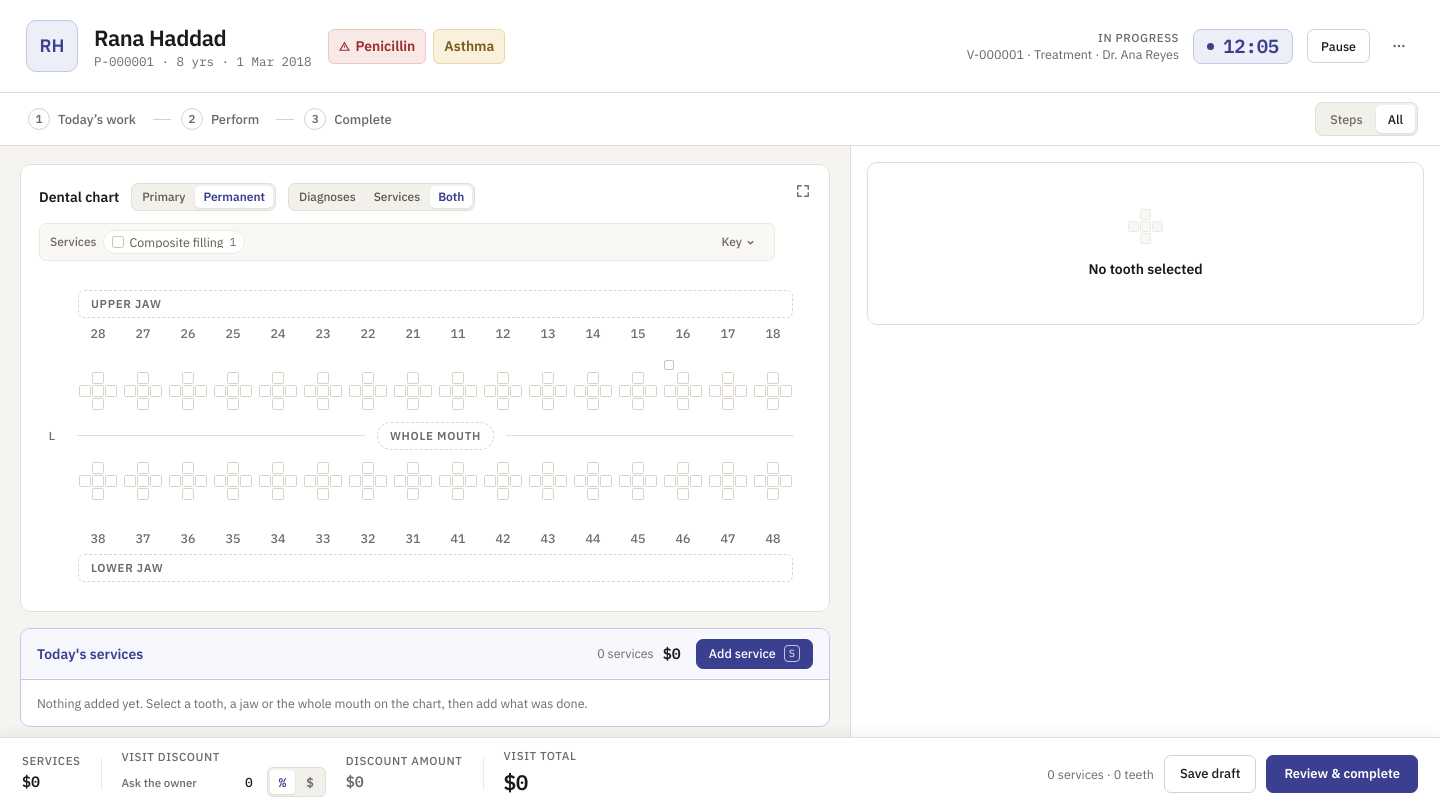
Test case: VisitWorkspacePage › "Chart it in this visit" selects the tooth here, without navigating
The width and height of the screenshot is (1440, 810).
Check: the element named "Upper arch" is shown, box x1=78 y1=324 x2=793 y2=411
Click the button named "#16 · ".
click(683, 367)  # box x1=663 y1=324 x2=703 y2=411
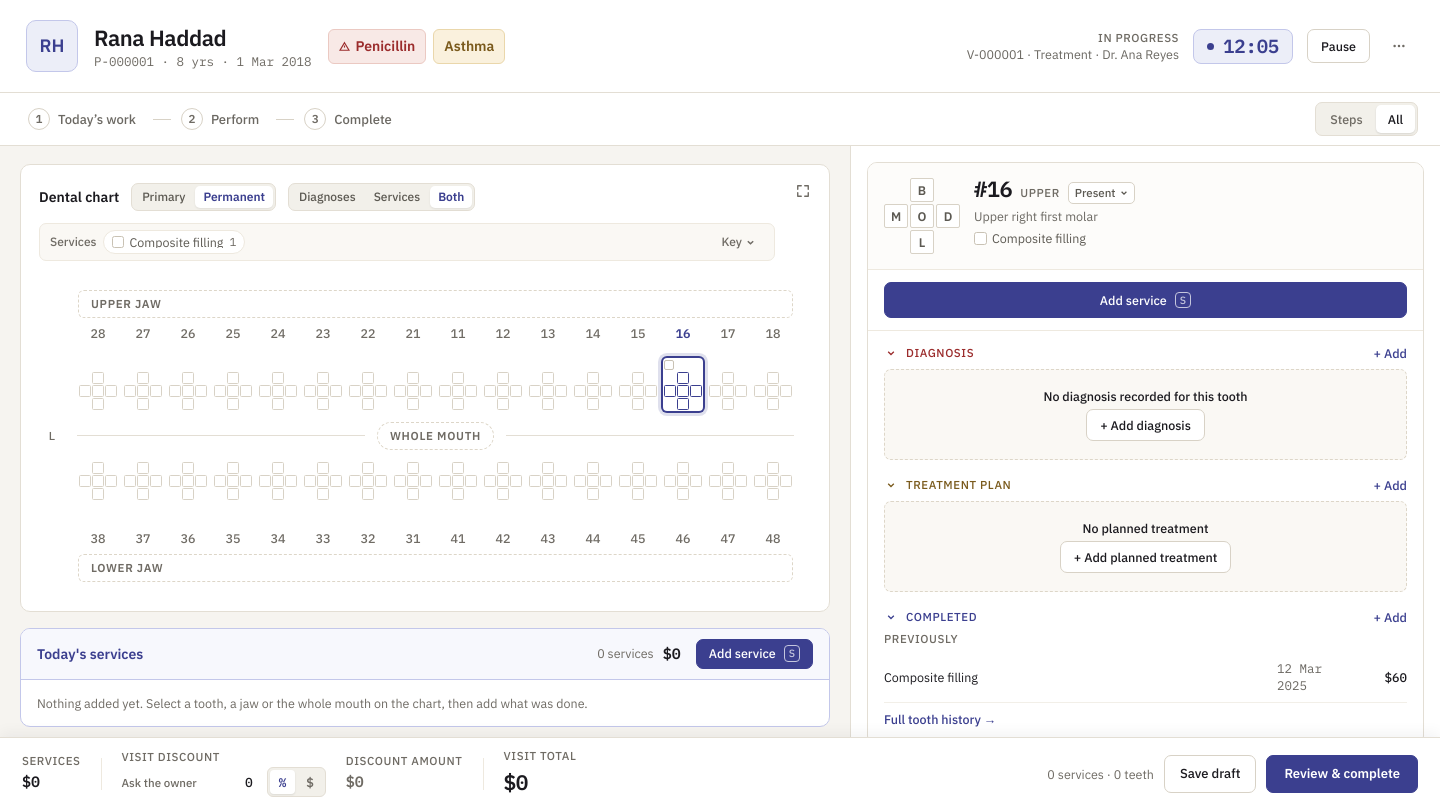
Click the button "Full tooth history →".
click(940, 719)  # box x1=884 y1=713 x2=996 y2=726
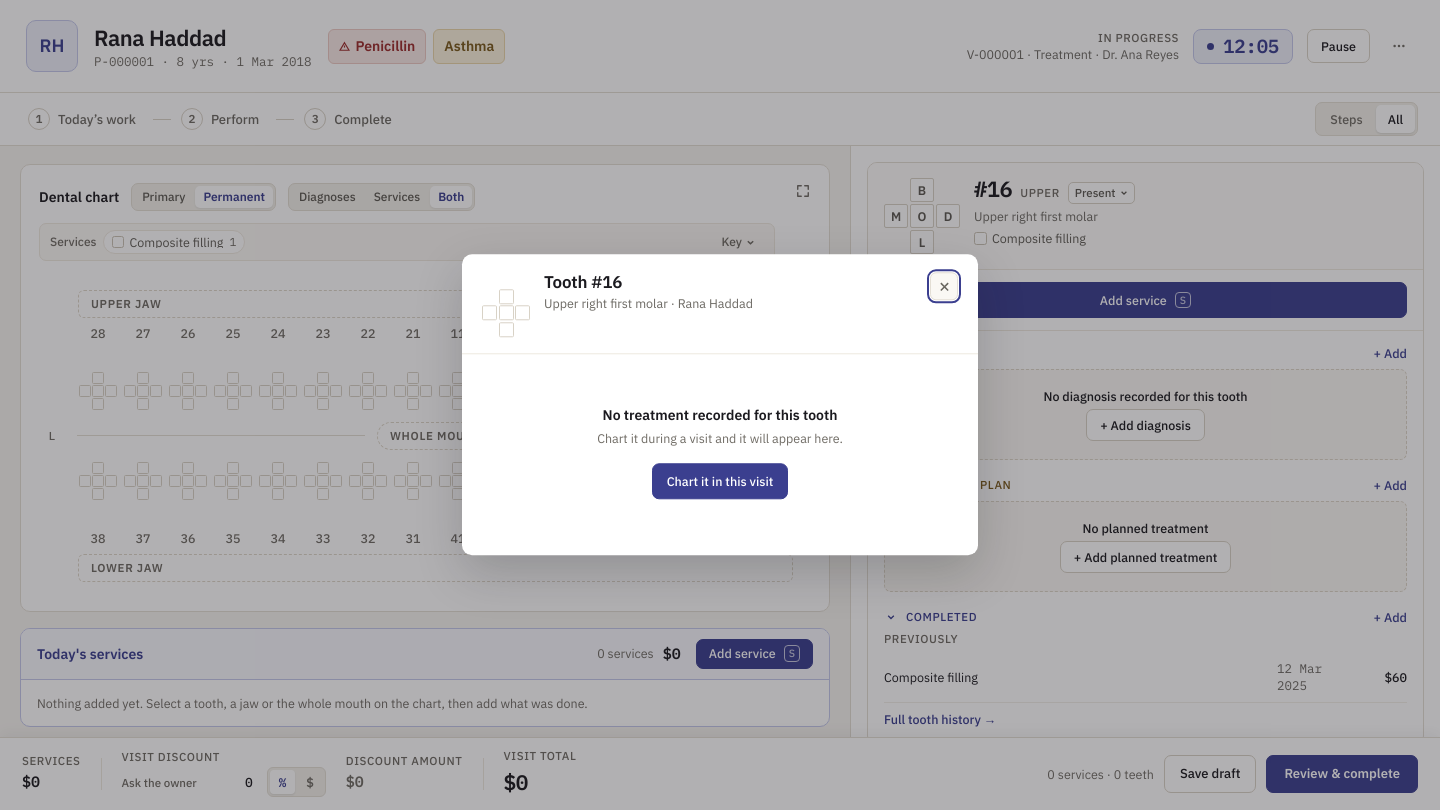
Click the button "Chart it in this visit".
click(720, 482)  # box x1=652 y1=464 x2=788 y2=500
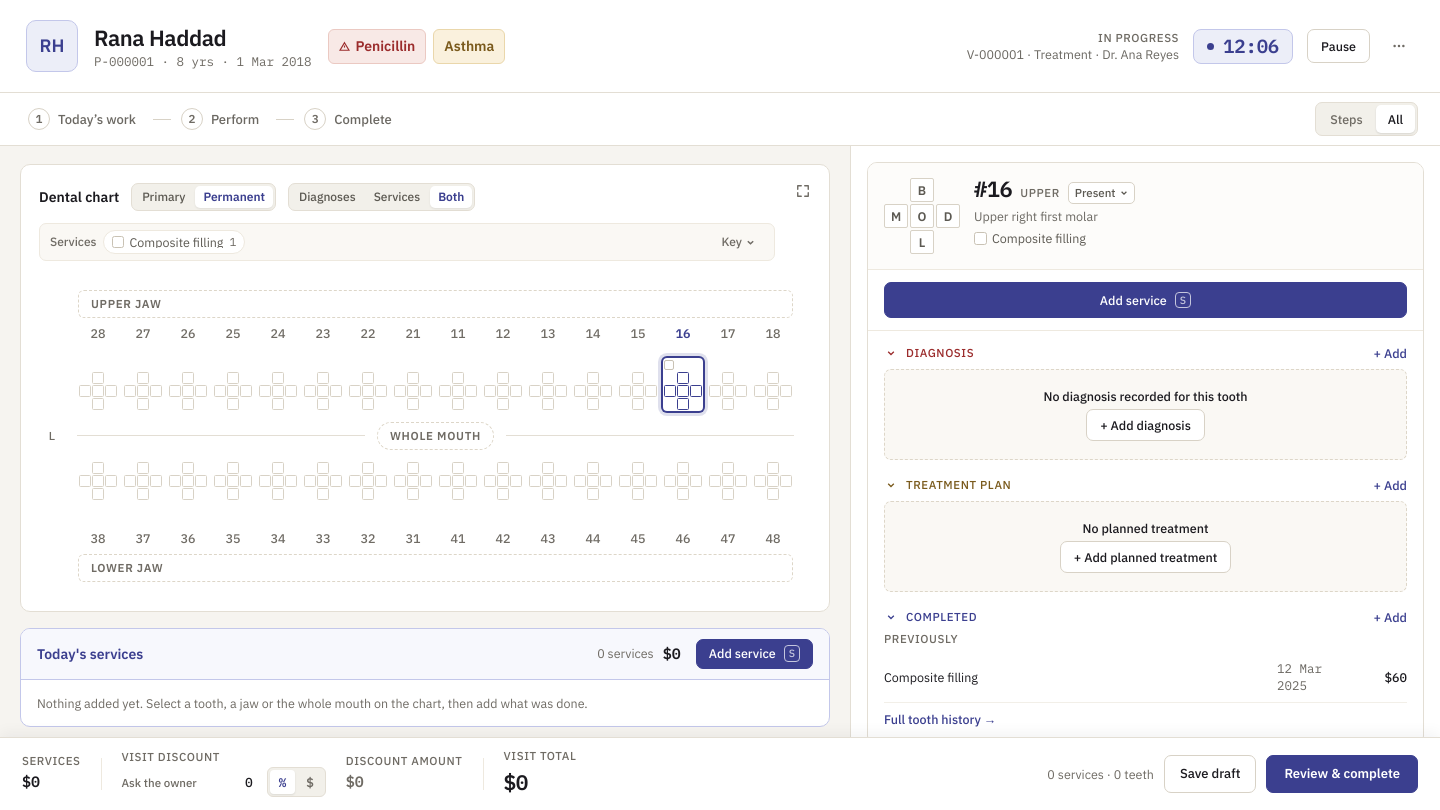
Check: the heading "#16" is shown, box x1=974 y1=178 x2=1012 y2=200
Check: the dialog is gone
